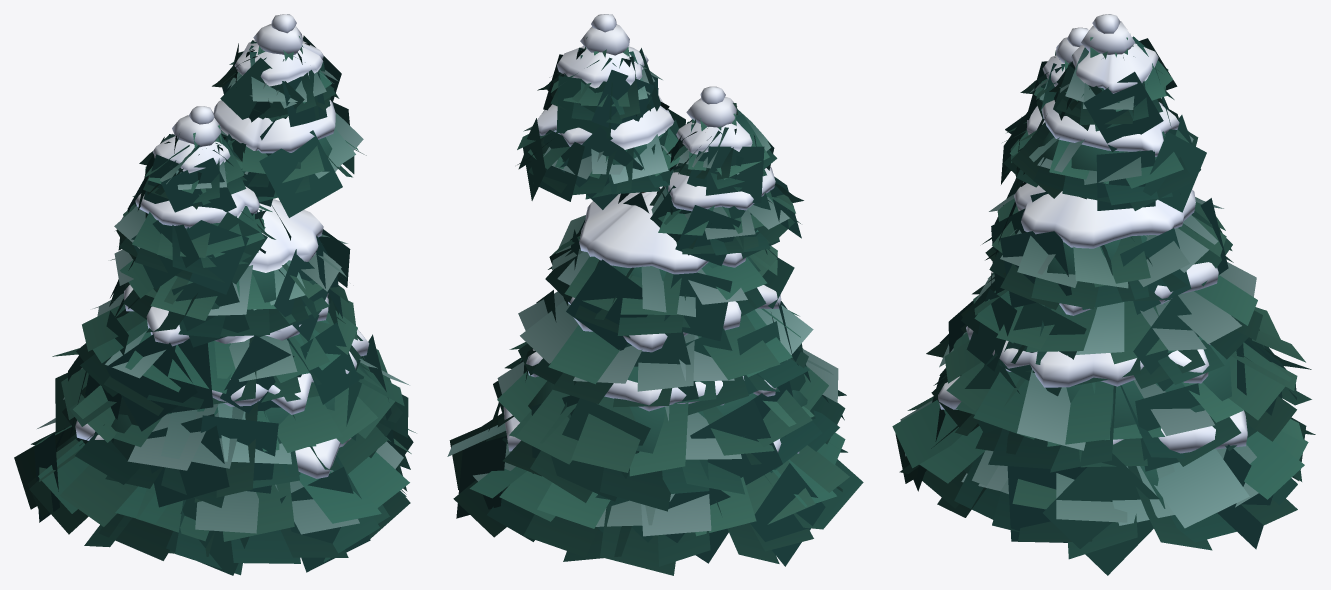
The model's file is tree-snowFir-v1.glb.
The picture shows the model from 3 angles, left to right: view 1: azimuth 30°, elevation 25°; view 2: azimuth 150°, elevation 25°; view 3: azimuth 270°, elevation 25°; orthographic projection. The views are drawn at different scales.
Parts seen in each view (by area): view 1: cards_pine, d_body, foliage; view 2: cards_pine, d_body, foliage; view 3: cards_pine, d_body, foliage.
Boxes of the visible parts, x1,y1,x2,y2 form: cards_pine: (14, 35, 416, 575); d_body: (75, 14, 369, 478); foliage: (57, 74, 371, 451); cards_pine: (447, 37, 863, 575); d_body: (503, 14, 799, 453); foliage: (485, 73, 807, 487); cards_pine: (892, 36, 1315, 575); d_body: (938, 14, 1247, 453); foliage: (963, 87, 1264, 508).
Size of the model in its own units: 4.11 by 5.29 by 4.03.
